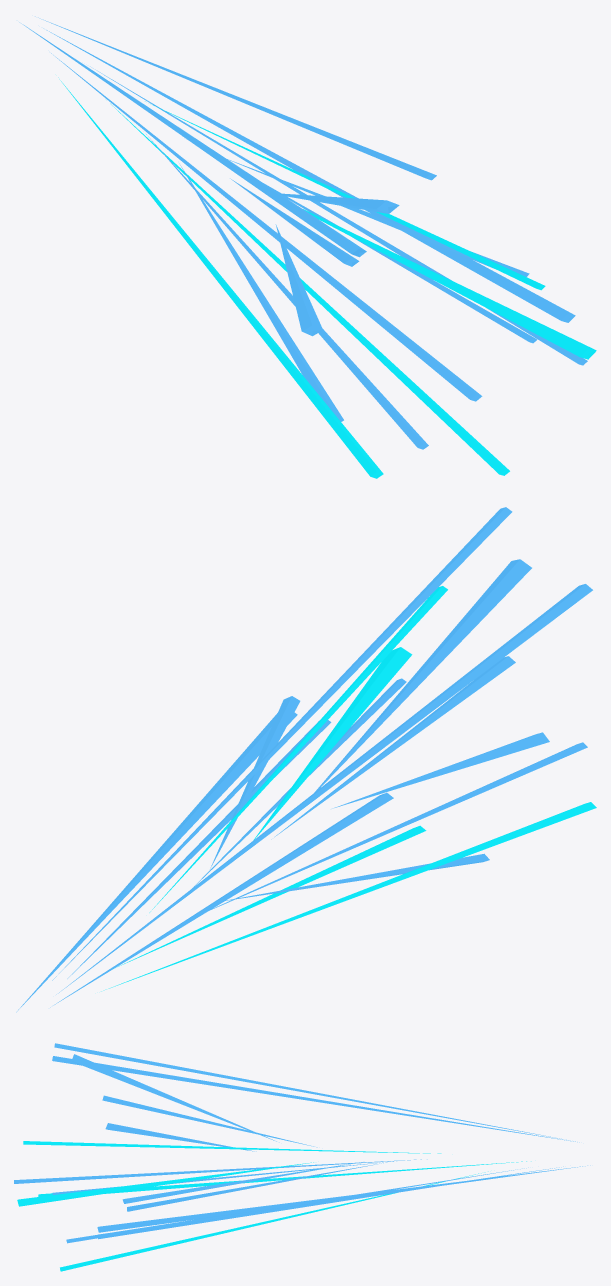
The model's file is afterburner_streaks.glb.
3 views of the same model, one above another, from view 1: azimuth 30°, elevation 25°; view 2: azimuth 150°, elevation 25°; view 3: azimuth 270°, elevation 25° (orthographic). The views are drawn at different scales.
Visible parts, largest first — view 1: afterburner_streaks; view 2: afterburner_streaks; view 3: afterburner_streaks.
Boxes of the visible parts, <box> form: afterburner_streaks: <box>19,16,596,478</box>; afterburner_streaks: <box>16,507,596,1012</box>; afterburner_streaks: <box>14,1043,590,1271</box>.
Bounding box in the file's own units: 0.7736 × 0.9035 × 2.33.
